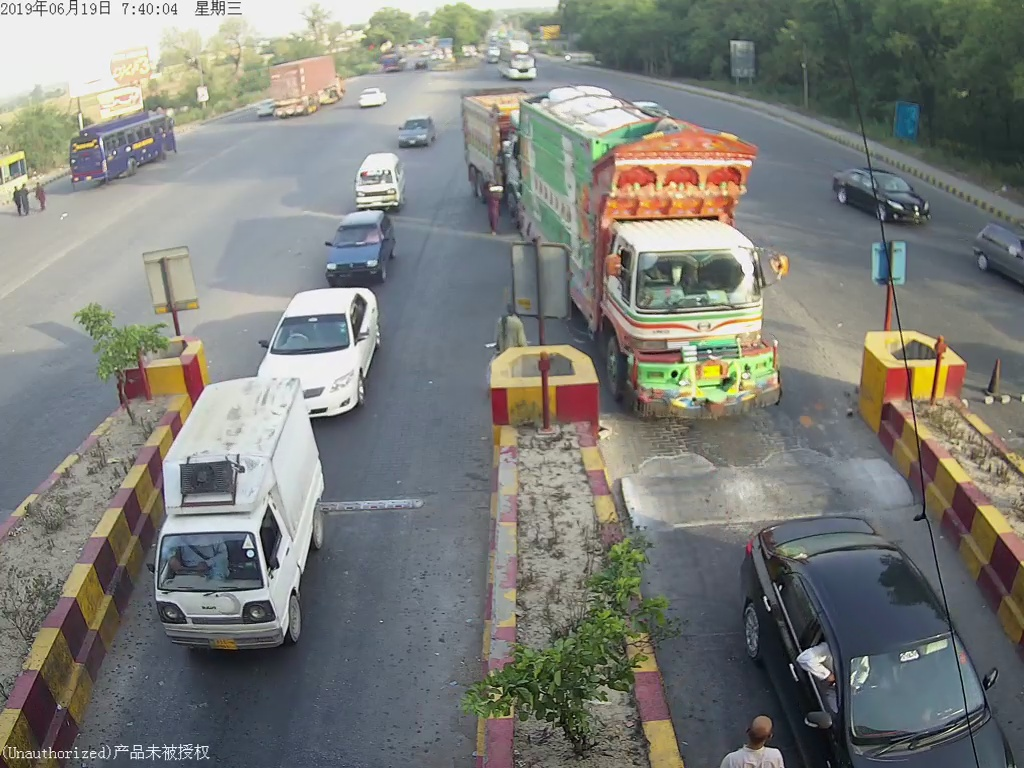Cat-1: (155, 384, 333, 669), (258, 293, 389, 378), (316, 206, 392, 281)
Cat-4: (512, 90, 797, 430)
